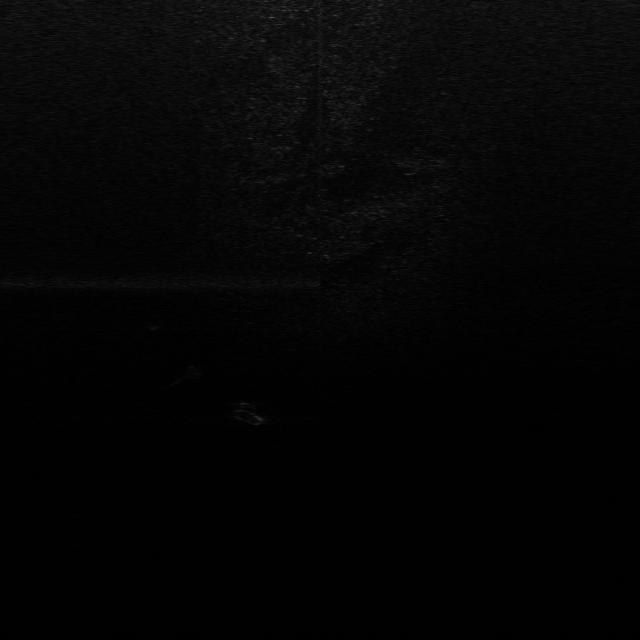ball: (182, 364, 207, 380)
circle cage: (142, 313, 167, 331)
tyre: (232, 402, 269, 425)
